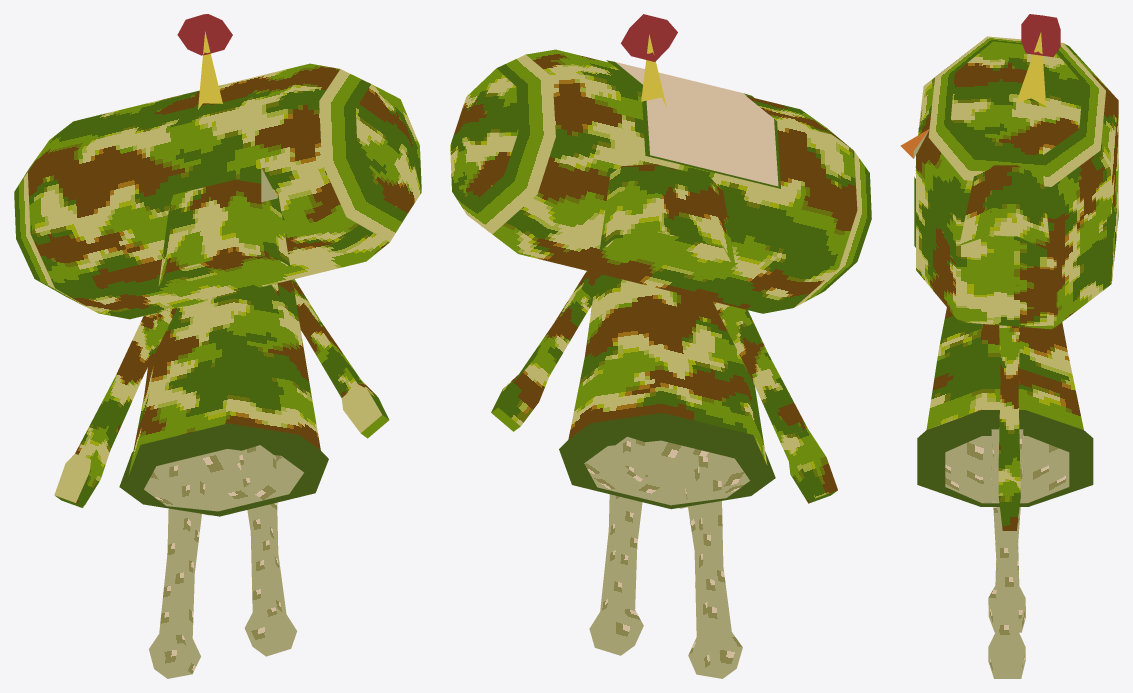
Rendered from 06b4_Jungle.glb.
3 views of the same model, side by side, from view 1: azimuth 30°, elevation 25°; view 2: azimuth 150°, elevation 25°; view 3: azimuth 270°, elevation 25° (orthographic). The views are drawn at different scales.
Parts seen in each view (by area): view 1: part_0; view 2: part_0; view 3: part_0.
Part boxes in pixels (x1,y1,x2,y2): part_0: [14, 14, 421, 678]; part_0: [450, 14, 871, 678]; part_0: [900, 14, 1118, 678].
Bounding box in the file's own units: 0.0314 × 0.0499 × 0.0156.
Materials: 1 (1 with a texture image).
